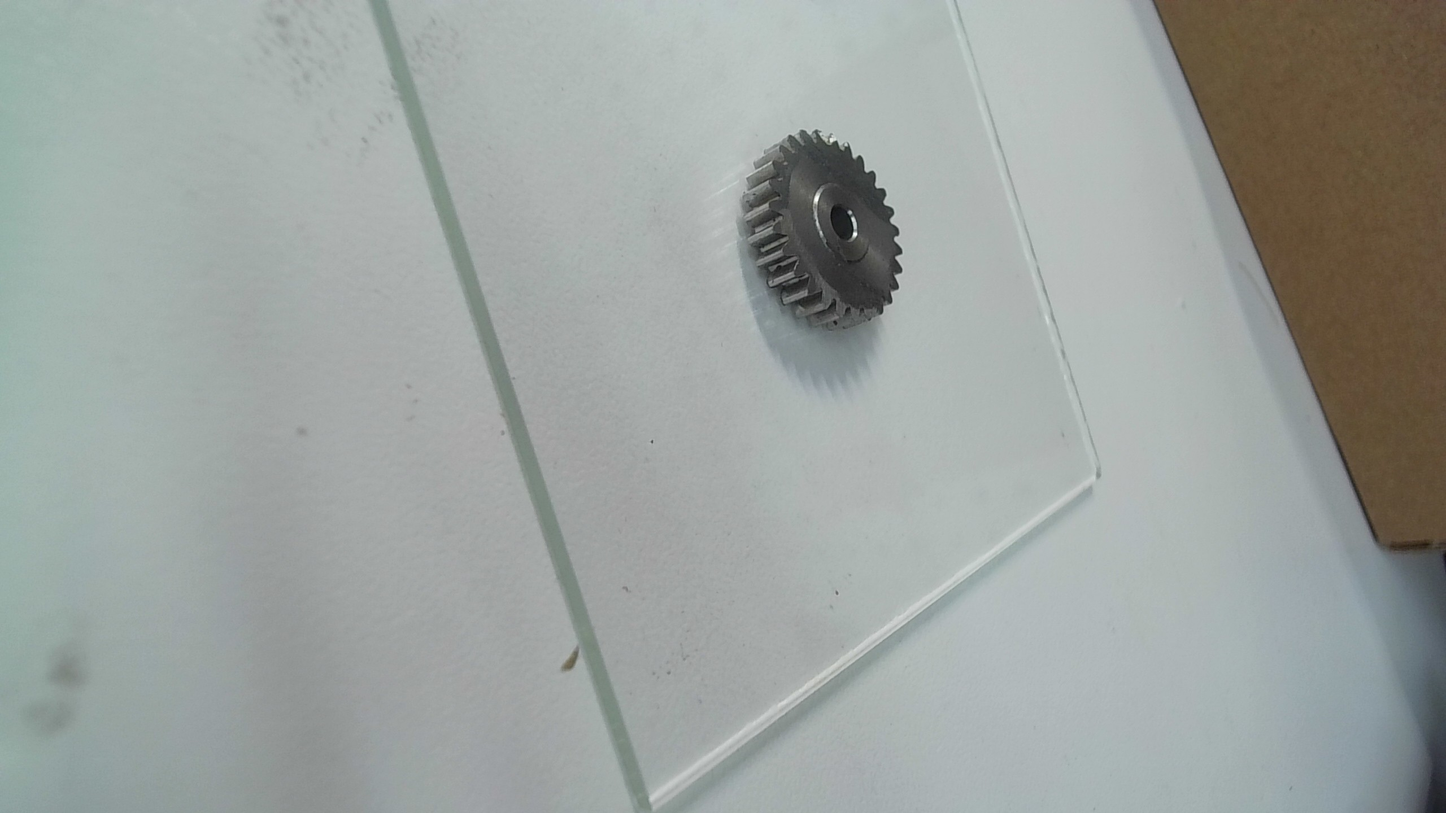gear: (743, 128, 904, 329)
